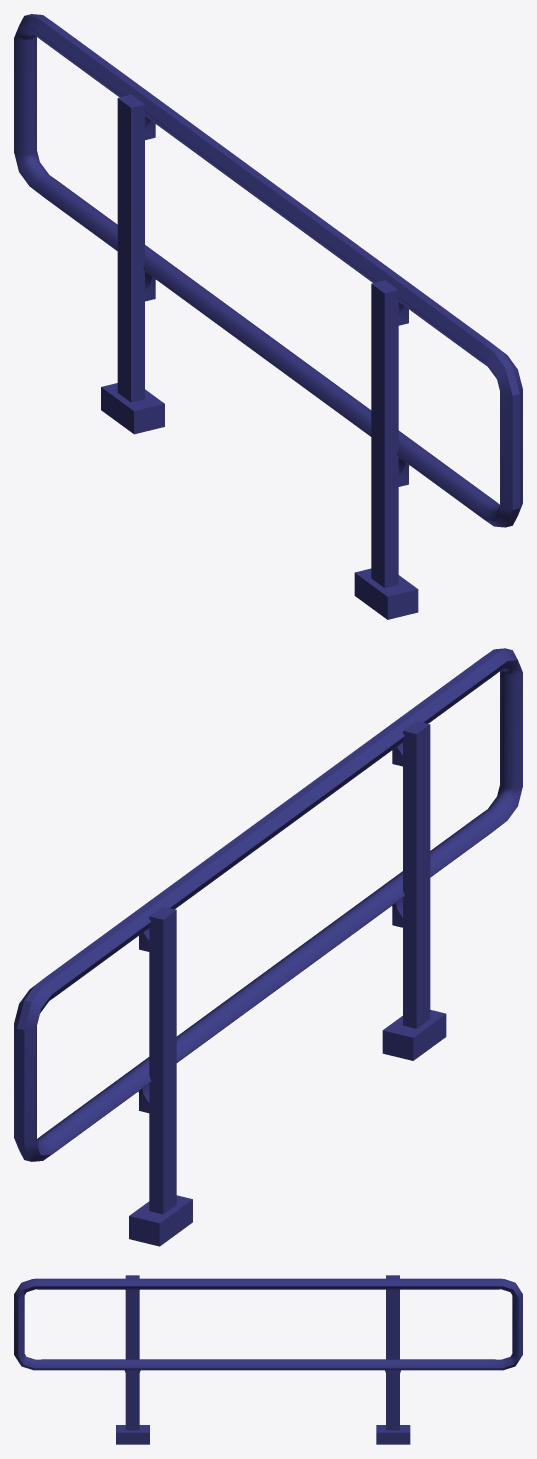
The model's file is baranda.fbx.
3 views of the same model, one above another, from view 1: azimuth 30°, elevation 25°; view 2: azimuth 150°, elevation 25°; view 3: azimuth 270°, elevation 25° (orthographic). The views are drawn at different scales.
Visible parts, largest first — view 1: Baranda; view 2: Baranda; view 3: Baranda.
Boxes of the visible parts, bbox=[...] form: Baranda: bbox=[14, 14, 522, 619]; Baranda: bbox=[14, 648, 522, 1246]; Baranda: bbox=[14, 1275, 522, 1444].
Bounding box in the file's own units: 0.4092 × 3.11 × 8.71.
